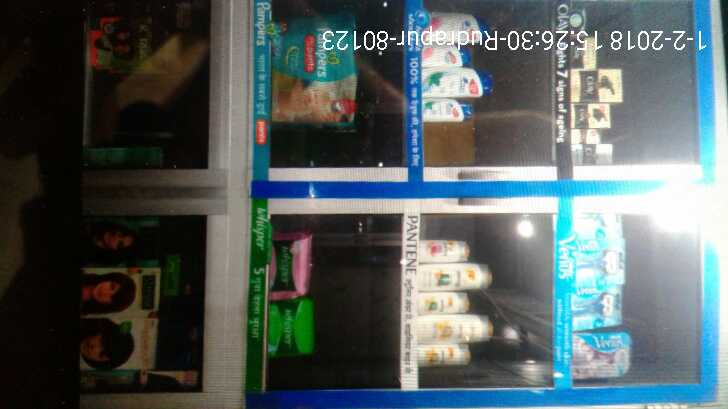venus: (569, 325, 625, 378), (571, 212, 625, 256), (569, 287, 627, 325), (571, 256, 627, 287)
